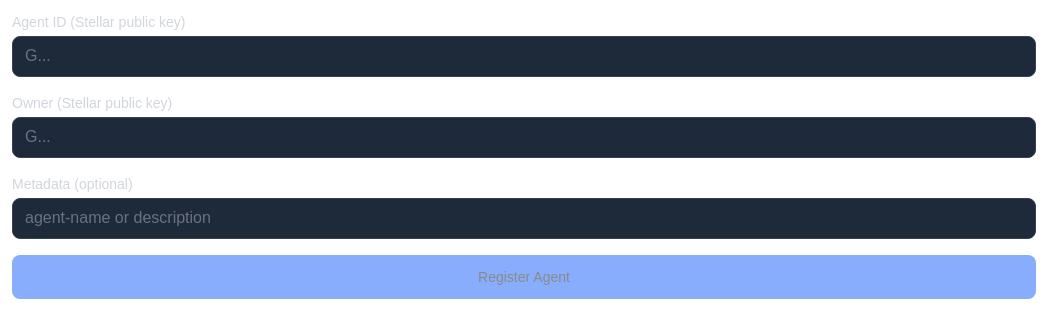
it: AgentRegistrationForm › enables submit when required fields filled
Type "GABCDEFG" into the field with placeholder "G..." below "Agent ID (Stellar public key)". click: {"x": 524, "y": 56}
box: [12,36,1036,77]
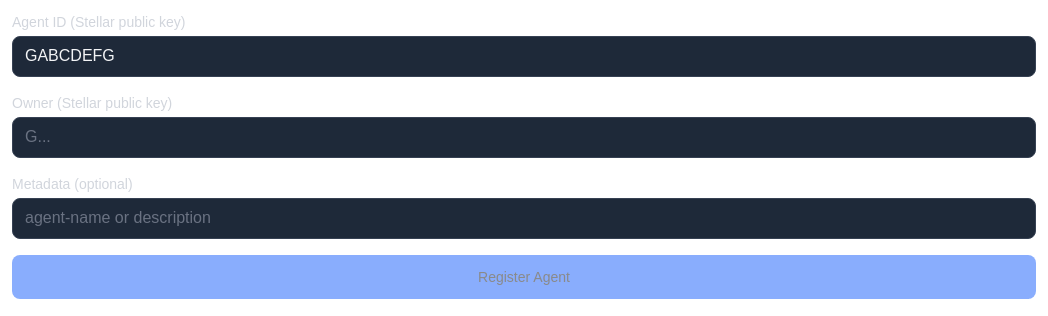
Type "G1234567" into the field with placeholder "G...". click: {"x": 524, "y": 137}
box: [12,117,1036,158]
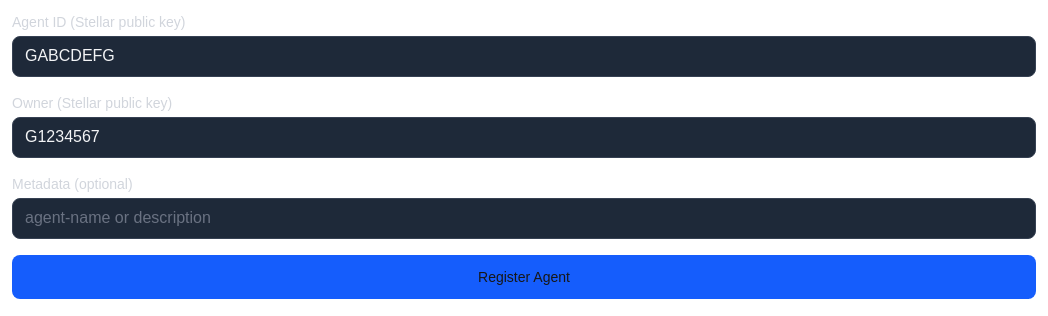
Expected: the button "Register Agent" is enabled, [12,254,1036,298]
